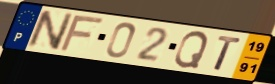0: (105, 21, 138, 59)
2: (134, 27, 172, 64)
F: (57, 15, 107, 53)
N: (25, 9, 76, 52)
Q: (173, 30, 210, 70)
T: (212, 34, 244, 72)
